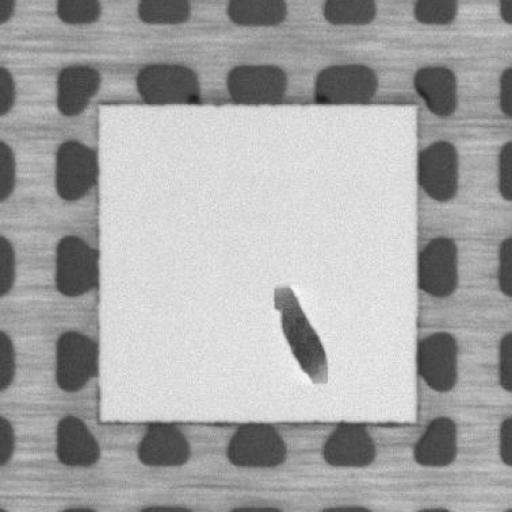DIE_INK: (264, 280, 330, 389)
